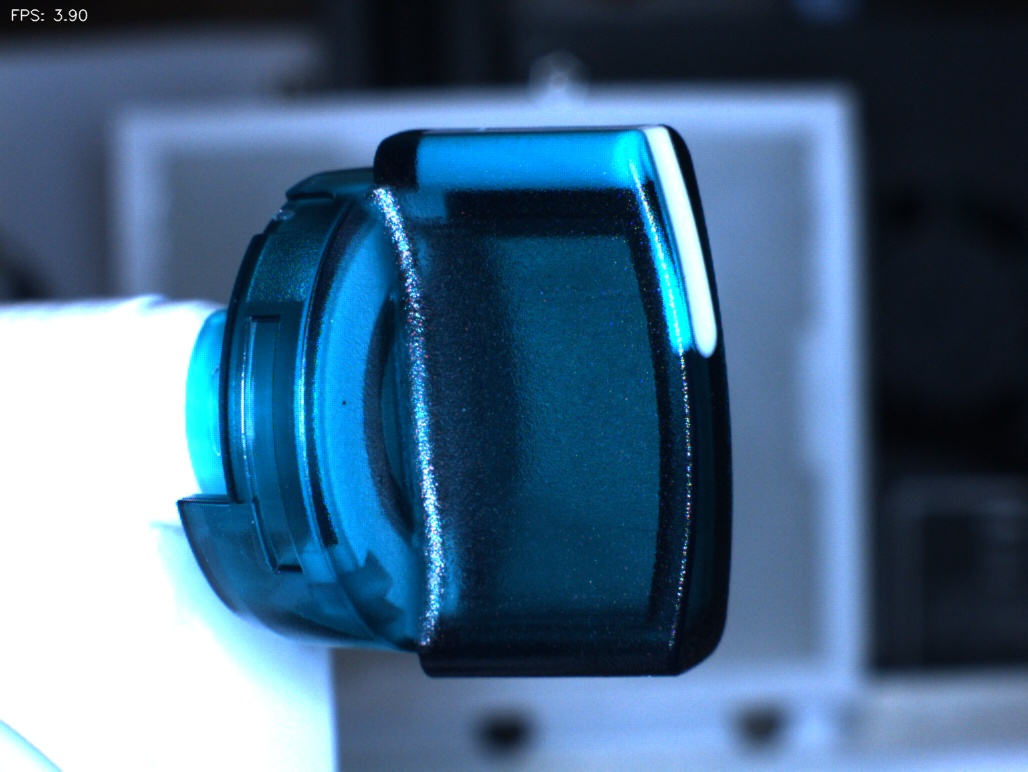PointNoir: (317, 369, 373, 428)
